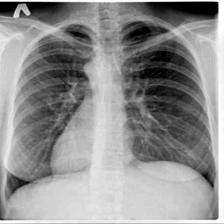tuberculosis: (0, 12, 220, 220)
